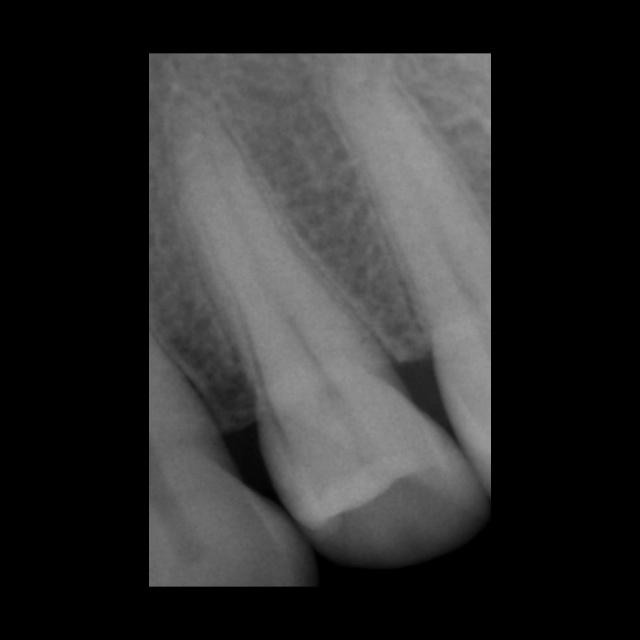tooth: (167, 83, 490, 565)
